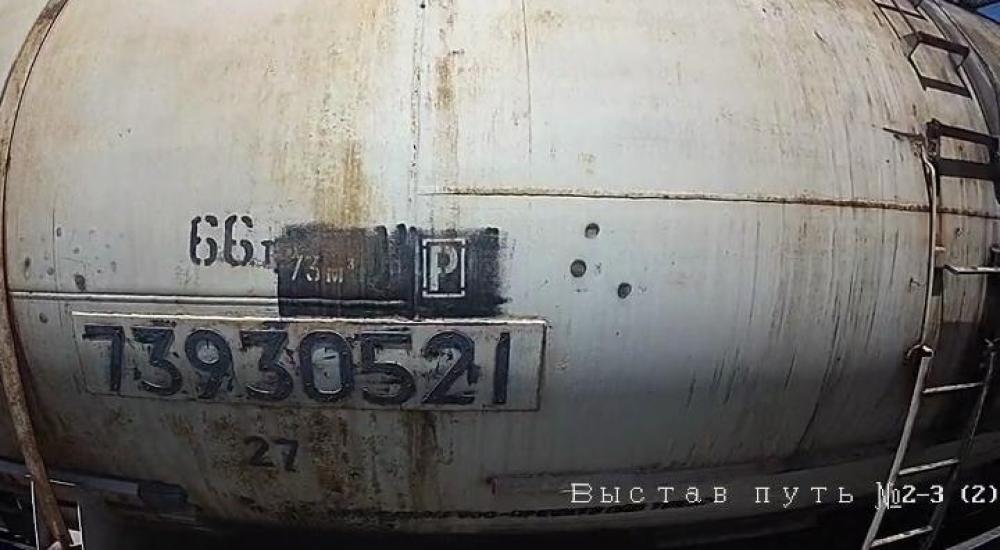Wagon-number: (82, 311, 513, 414)
